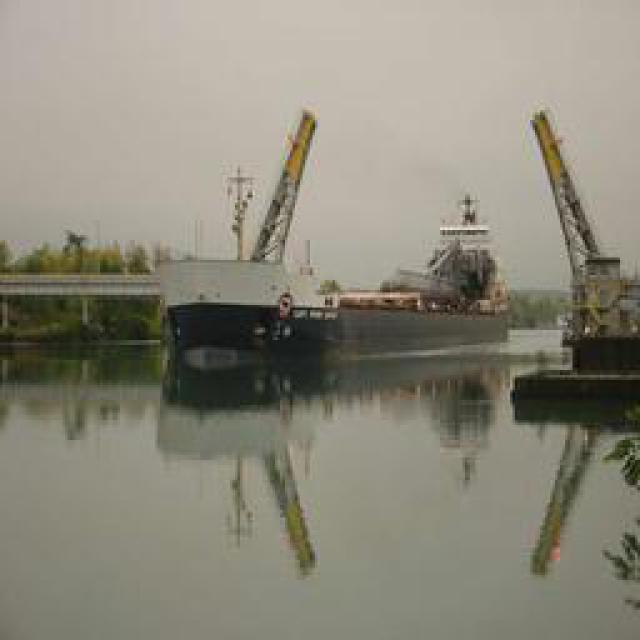Ship: (161, 207, 520, 384)
